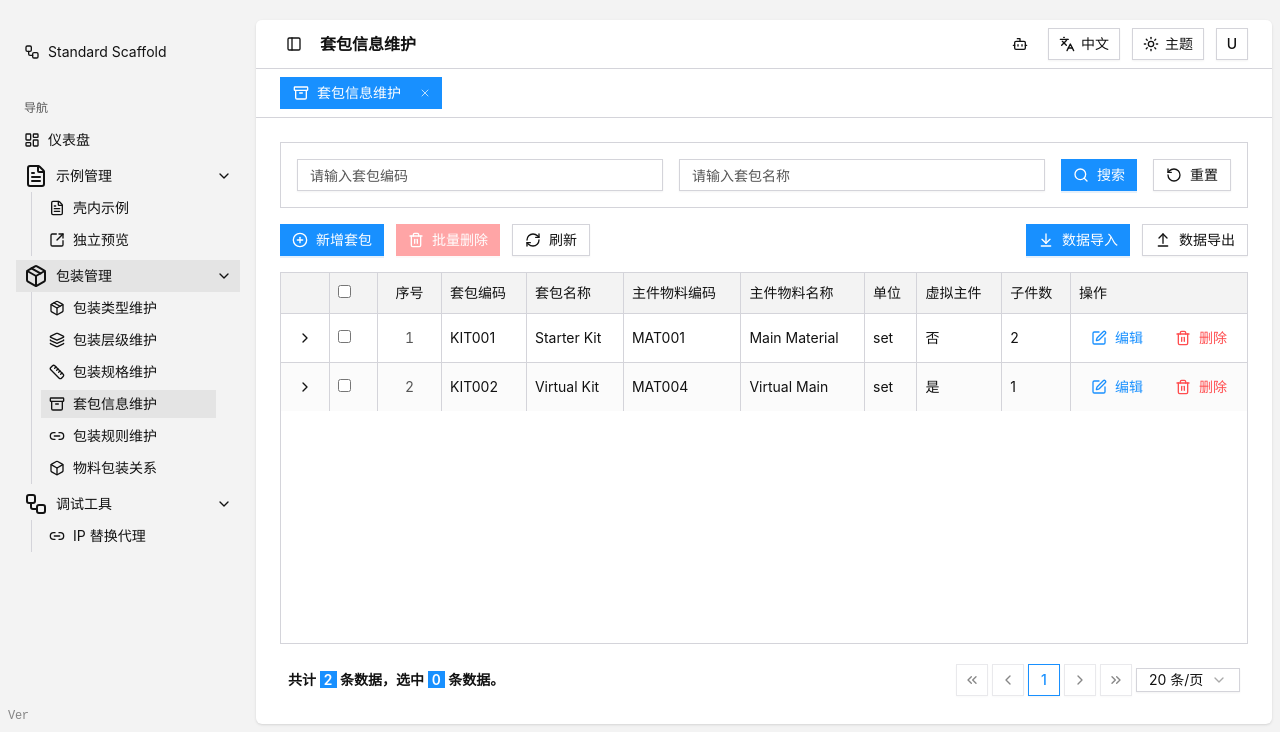
Scenario: PackagingKitPage › expands a packaging kit row to show child records inline
This screenshot has width=1280, height=732.
Check: the text "Starter Kit" is shown, box x1=526 y1=313 x2=623 y2=362
Check: the text "Accessory Material" is not shown
Click the button named "展开 KIT001" in the row of "KIT001": (305,338) x1=289 y1=322 x2=321 y2=354
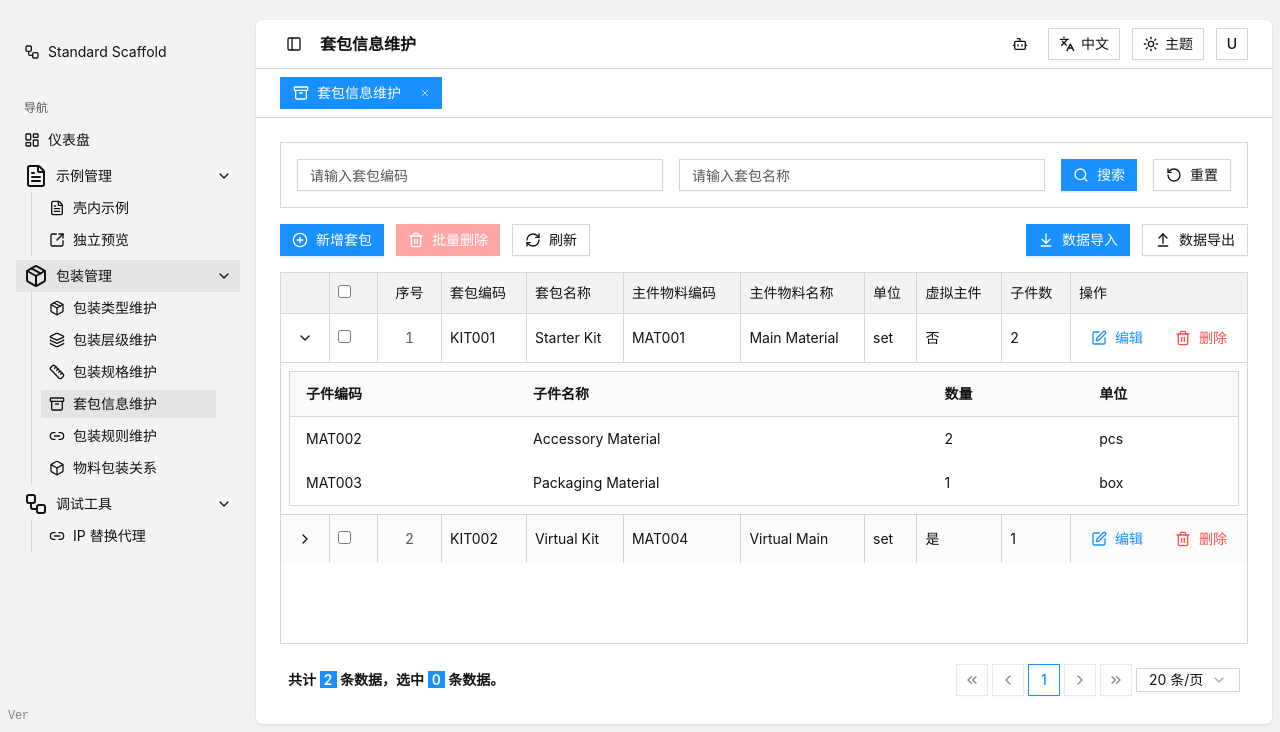
Check: the column heading "子件编码" is shown, box x1=290 y1=372 x2=517 y2=416
Check: the text "Accessory Material" is shown, box x1=517 y1=416 x2=928 y2=460
Check: the text "Packaging Material" is shown, box x1=517 y1=460 x2=928 y2=504
